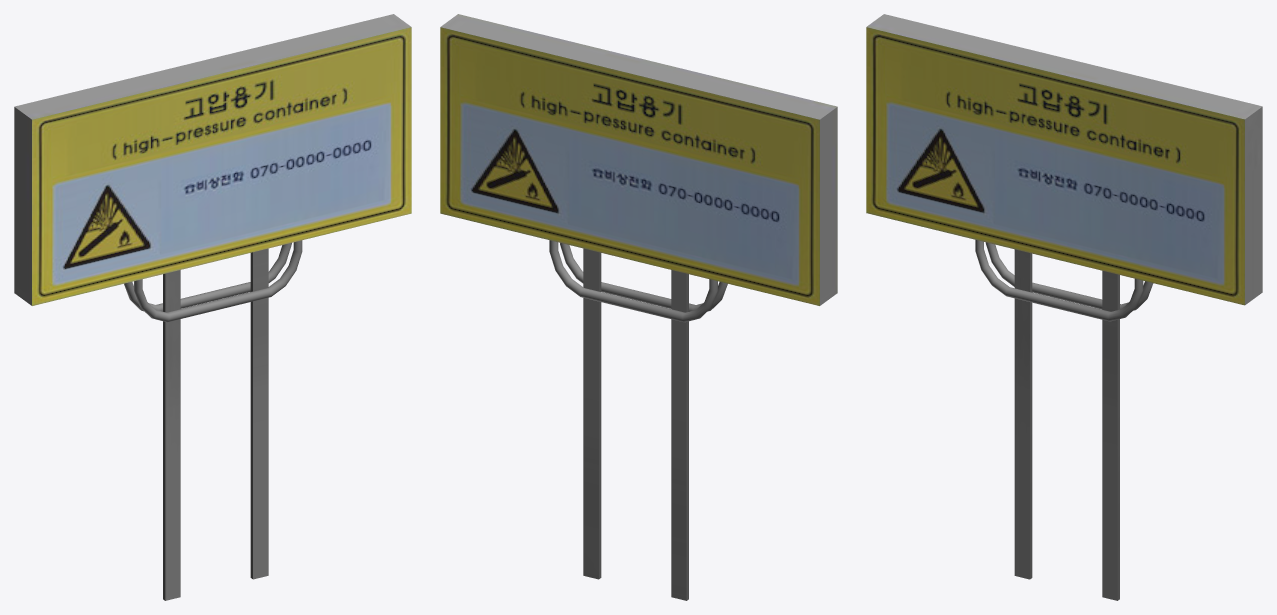
The model's file is cautionPressure.gltf.
3 renders of one model, left to right at view 1: azimuth 30°, elevation 25°; view 2: azimuth 150°, elevation 25°; view 3: azimuth 330°, elevation 25°, orthographic.
Parts seen in each view (by area): view 1: pressure; view 2: pressure; view 3: pressure.
Boxes of the visible parts, x1,y1,x2,y2 form: pressure: [14, 14, 411, 600]; pressure: [440, 14, 837, 600]; pressure: [866, 14, 1262, 600].
Bounding box in the file's own units: 21.53 × 28.25 × 1.76.
Materials: 1 (1 with a texture image).
